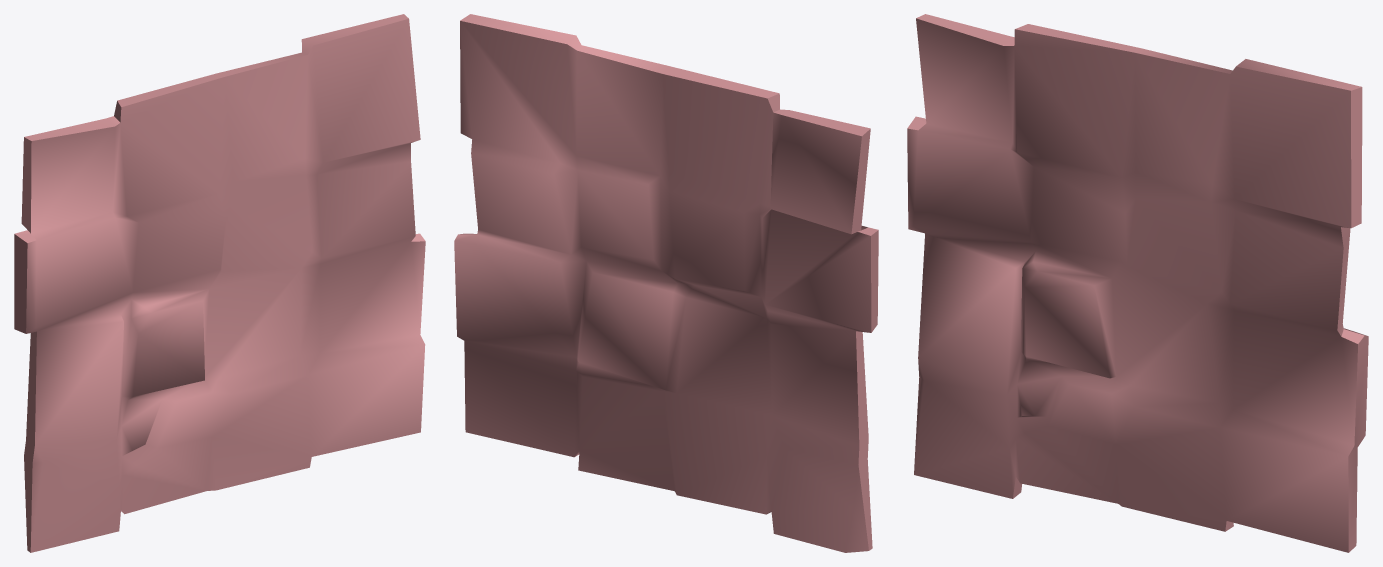
Rendered from Stone_Brick_002_a.FBX.
3 renders of one model, left to right at view 1: azimuth 30°, elevation 25°; view 2: azimuth 150°, elevation 25°; view 3: azimuth 330°, elevation 25°, orthographic. The views are drawn at different scales.
Visible parts, largest first — view 1: Stone_Brick_002_a_LOD0; view 2: Stone_Brick_002_a_LOD0; view 3: Stone_Brick_002_a_LOD0.
Boxes of the visible parts, left/top/right/bottom form: Stone_Brick_002_a_LOD0: left=14, top=14, right=425, bottom=552; Stone_Brick_002_a_LOD0: left=454, top=14, right=878, bottom=552; Stone_Brick_002_a_LOD0: left=907, top=14, right=1368, bottom=552.
Size of the model in its own units: 271 by 23.83 by 278.
